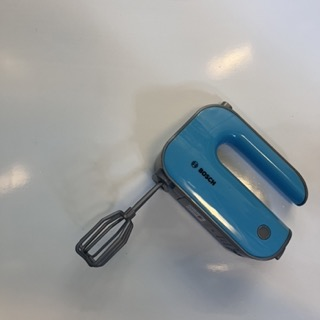mixer: (74, 101, 308, 268)
